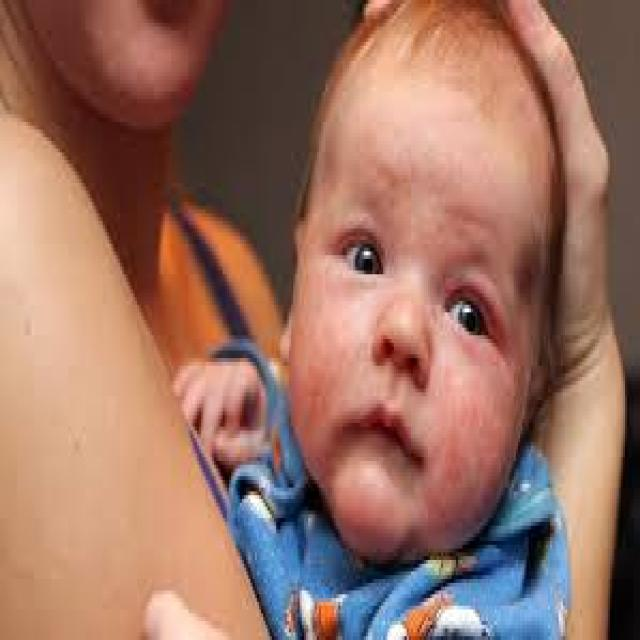Dry-Skin: (306, 338, 365, 416), (373, 142, 415, 217), (449, 169, 492, 237), (356, 482, 387, 535), (437, 411, 458, 487), (488, 409, 516, 461), (458, 394, 478, 447), (466, 459, 492, 498)
